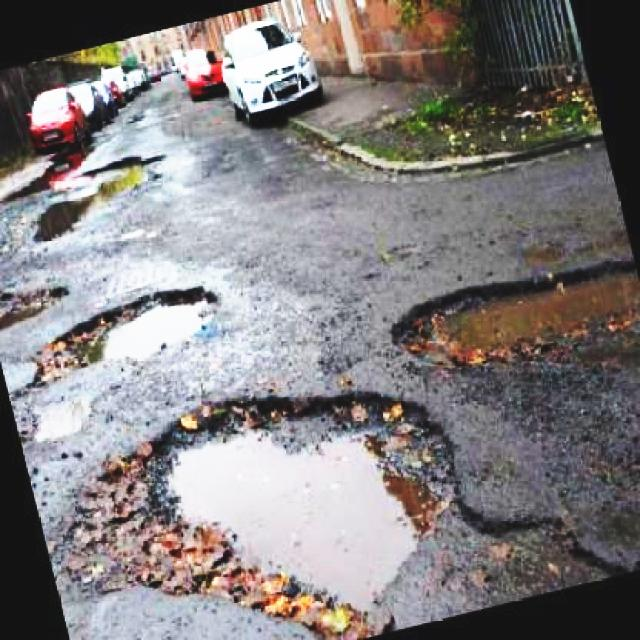pothole: (83, 381, 489, 640), (394, 245, 640, 377), (16, 274, 230, 406), (31, 146, 172, 246), (0, 263, 75, 332)
